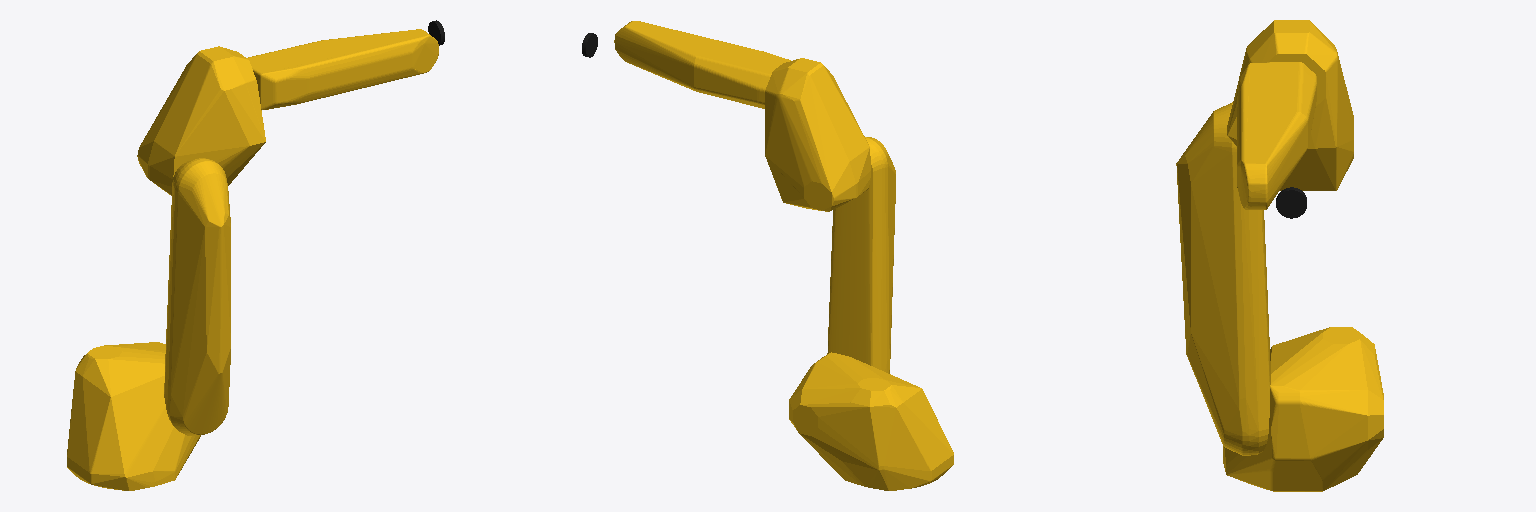
robot.urdf — fanuc_m10ia:
<?xml version="1.0" ?>
<!-- =================================================================================== -->
<!-- |    This document was autogenerated by xacro from urdf/m10ia.xacro               | -->
<!-- |    EDITING THIS FILE BY HAND IS NOT RECOMMENDED                                 | -->
<!-- =================================================================================== -->
<robot name="fanuc_m10ia">
  <!-- links: main serial chain -->
  <link name="base_link">
    <visual>
      <origin rpy="0 0 0" xyz="0 0 0"/>
      <geometry>
        <mesh filename="package://fanuc_m10ia_support/meshes/m10ia/visual/base_link.stl"/>
      </geometry>
      <material name="">
        <color rgba="0.4 0.4 0.4 1.0"/>
      </material>
    </visual>
    <collision>
      <origin rpy="0 0 0" xyz="0 0 0"/>
      <geometry>
        <mesh filename="package://fanuc_m10ia_support/meshes/m10ia/collision/base_link.stl"/>
      </geometry>
    </collision>
  </link>
  <link name="link_1">
    <visual>
      <origin rpy="0 0 0" xyz="0 0 0"/>
      <geometry>
        <mesh filename="package://fanuc_m10ia_support/meshes/m10ia/visual/link_1.stl"/>
      </geometry>
      <material name="">
        <color rgba="0.96 0.76 0.13 1.0"/>
      </material>
    </visual>
    <collision>
      <origin rpy="0 0 0" xyz="0 0 0"/>
      <geometry>
        <mesh filename="package://fanuc_m10ia_support/meshes/m10ia/collision/link_1.stl"/>
      </geometry>
    </collision>
  </link>
  <link name="link_2">
    <visual>
      <origin rpy="0 0 0" xyz="0 0 0"/>
      <geometry>
        <mesh filename="package://fanuc_m10ia_support/meshes/m10ia/visual/link_2.stl"/>
      </geometry>
      <material name="">
        <color rgba="0.96 0.76 0.13 1.0"/>
      </material>
    </visual>
    <collision>
      <origin rpy="0 0 0" xyz="0 0 0"/>
      <geometry>
        <mesh filename="package://fanuc_m10ia_support/meshes/m10ia/collision/link_2.stl"/>
      </geometry>
    </collision>
  </link>
  <link name="link_3">
    <visual>
      <origin rpy="0 0 0" xyz="0 0 0"/>
      <geometry>
        <mesh filename="package://fanuc_m10ia_support/meshes/m10ia/visual/link_3.stl"/>
      </geometry>
      <material name="">
        <color rgba="0.96 0.76 0.13 1.0"/>
      </material>
    </visual>
    <collision>
      <origin rpy="0 0 0" xyz="0 0 0"/>
      <geometry>
        <mesh filename="package://fanuc_m10ia_support/meshes/m10ia/collision/link_3.stl"/>
      </geometry>
    </collision>
  </link>
  <link name="link_4">
    <visual>
      <origin rpy="0 0 0" xyz="0 0 0"/>
      <geometry>
        <mesh filename="package://fanuc_m10ia_support/meshes/m10ia/visual/link_4.stl"/>
      </geometry>
      <material name="">
        <color rgba="0.96 0.76 0.13 1.0"/>
      </material>
    </visual>
    <collision>
      <origin rpy="0 0 0" xyz="0 0 0"/>
      <geometry>
        <mesh filename="package://fanuc_m10ia_support/meshes/m10ia/collision/link_4.stl"/>
      </geometry>
    </collision>
  </link>
  <link name="link_5">
    <visual>
      <origin rpy="0 0 0" xyz="0 0 0"/>
      <geometry>
        <mesh filename="package://fanuc_m10ia_support/meshes/m10ia/visual/link_5.stl"/>
      </geometry>
      <material name="">
        <color rgba="0.96 0.76 0.13 1.0"/>
      </material>
    </visual>
    <collision>
      <origin rpy="0 0 0" xyz="0 0 0"/>
      <geometry>
        <mesh filename="package://fanuc_m10ia_support/meshes/m10ia/collision/link_5.stl"/>
      </geometry>
    </collision>
  </link>
  <link name="link_6">
    <visual>
      <origin rpy="0 0 0" xyz="0 0 0"/>
      <geometry>
        <mesh filename="package://fanuc_m10ia_support/meshes/m10ia/visual/link_6.stl"/>
      </geometry>
      <material name="">
        <color rgba="0.15 0.15 0.15 1.0"/>
      </material>
    </visual>
    <collision>
      <origin rpy="0 0 0" xyz="0 0 0"/>
      <geometry>
        <mesh filename="package://fanuc_m10ia_support/meshes/m10ia/collision/link_6.stl"/>
      </geometry>
    </collision>
  </link>
  <!-- joints: main serial chain -->
  <joint name="joint_1" type="revolute">
    <origin rpy="0 0 0" xyz="0 0 0.450"/>
    <parent link="base_link"/>
    <child link="link_1"/>
    <axis xyz="0 0 1"/>
    <limit effort="0" lower="-3.14" upper="3.14" velocity="3.67"/>
  </joint>
  <joint name="joint_2" type="revolute">
    <origin rpy="0 0 0" xyz="0.150 0 0"/>
    <parent link="link_1"/>
    <child link="link_2"/>
    <axis xyz="0 1 0"/>
    <limit effort="0" lower="-1.57" upper="2.79" velocity="3.32"/>
  </joint>
  <joint name="joint_3" type="revolute">
    <origin rpy="0 0 0" xyz="0 0 0.600"/>
    <parent link="link_2"/>
    <child link="link_3"/>
    <axis xyz="0 -1 0"/>
    <limit effort="0" lower="-3.14" upper="4.61" velocity="3.67"/>
  </joint>
  <joint name="joint_4" type="revolute">
    <origin rpy="0 0 0" xyz="0 0 0.200"/>
    <parent link="link_3"/>
    <child link="link_4"/>
    <axis xyz="-1 0 0"/>
    <limit effort="0" lower="-3.31" upper="3.31" velocity="6.98"/>
  </joint>
  <joint name="joint_5" type="revolute">
    <origin rpy="0 0 0" xyz="0.640 0 0"/>
    <parent link="link_4"/>
    <child link="link_5"/>
    <axis xyz="0 -1 0"/>
    <limit effort="0" lower="-3.31" upper="3.31" velocity="6.98"/>
  </joint>
  <joint name="joint_6" type="revolute">
    <origin rpy="0 0 0" xyz="0.100 0 0"/>
    <parent link="link_5"/>
    <child link="link_6"/>
    <axis xyz="-1 0 0"/>
    <limit effort="0" lower="-6.28" upper="6.28" velocity="10.47"/>
  </joint>
  <!-- ROS-Industrial 'base' frame: base_link to Fanuc World Coordinates transform -->
  <link name="base"/>
  <joint name="base_link-base" type="fixed">
    <origin rpy="0 0 0" xyz="0 0 0.450"/>
    <parent link="base_link"/>
    <child link="base"/>
  </joint>
  <!-- ROS-Industrial 'flange' frame: attachment point for EEF models -->
  <link name="flange"/>
  <joint name="joint_6-flange" type="fixed">
    <origin rpy="0 0 0" xyz="0 0 0"/>
    <parent link="link_6"/>
    <child link="flange"/>
  </joint>
  <!-- ROS-Industrial 'tool0' frame: all-zeros tool frame -->
  <link name="tool0"/>
  <joint name="link_6-tool0" type="fixed">
    <origin rpy="3.141592653589793 -1.5707963267948966 0" xyz="0 0 0"/>
    <parent link="flange"/>
    <child link="tool0"/>
  </joint>
</robot>

--- What the picture shows (computed from the rendered views, not written in the file) ---
3 views of the same robot in one strip: view 1: azimuth 30°, elevation 25°; view 2: azimuth 150°, elevation 25°; view 3: azimuth 270°, elevation 25° (orthographic).
Model fanuc_m10ia with 10 links and 9 joints (6 revolute, 3 fixed), rooted at base_link, posed all joints at 0.
Visible links, largest first — view 1: link_2, link_1, link_3, link_4; view 2: link_1, link_3, link_2, link_4; view 3: link_2, link_1, link_4, link_3, link_6.
Boxes of the visible links, x1,y1,x2,y2 form: link_2: [164, 158, 230, 435]; link_1: [67, 342, 200, 490]; link_3: [137, 46, 265, 195]; link_4: [247, 29, 438, 109]; link_1: [789, 352, 953, 490]; link_3: [765, 58, 870, 211]; link_2: [827, 136, 895, 373]; link_4: [614, 21, 790, 108]; link_2: [1176, 102, 1270, 455]; link_1: [1223, 327, 1383, 491]; link_4: [1237, 62, 1316, 209]; link_3: [1227, 20, 1353, 190]; link_6: [1276, 187, 1306, 218].
Size in the robot's own frame: 1.03 by 0.4075 by 1.06 metres.
5 mesh visuals loaded from 7 distinct referenced files (5 binary STL); not drawn: 2 (reference not matched to a file when rendering).